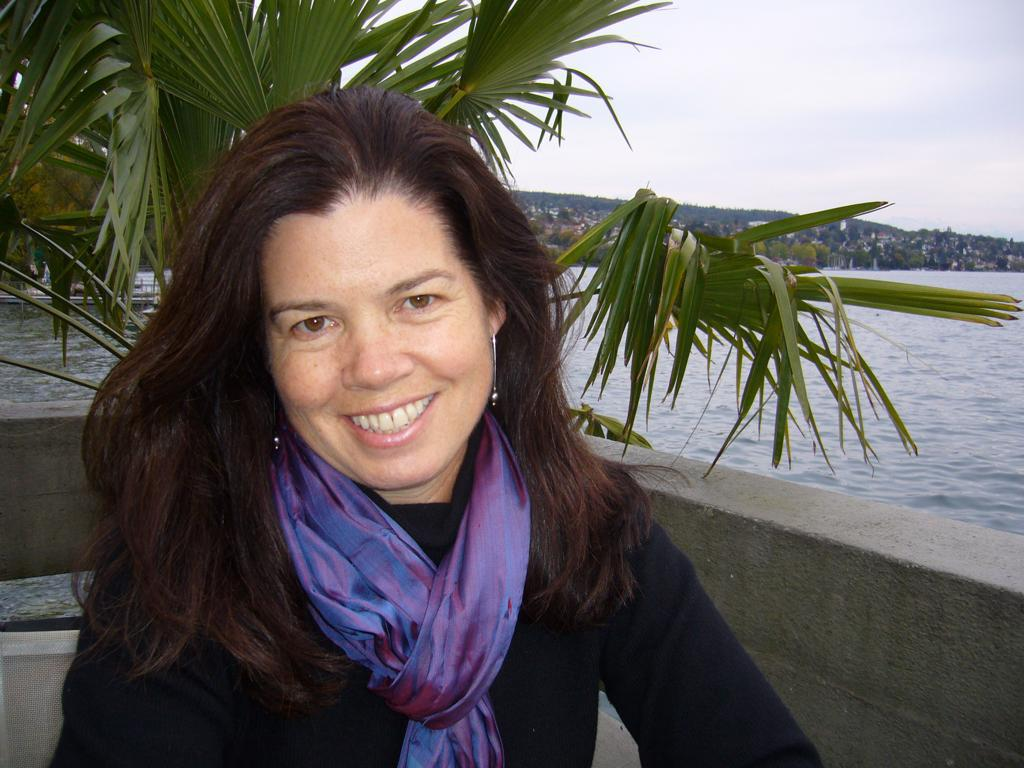face: (269, 209, 499, 491)
